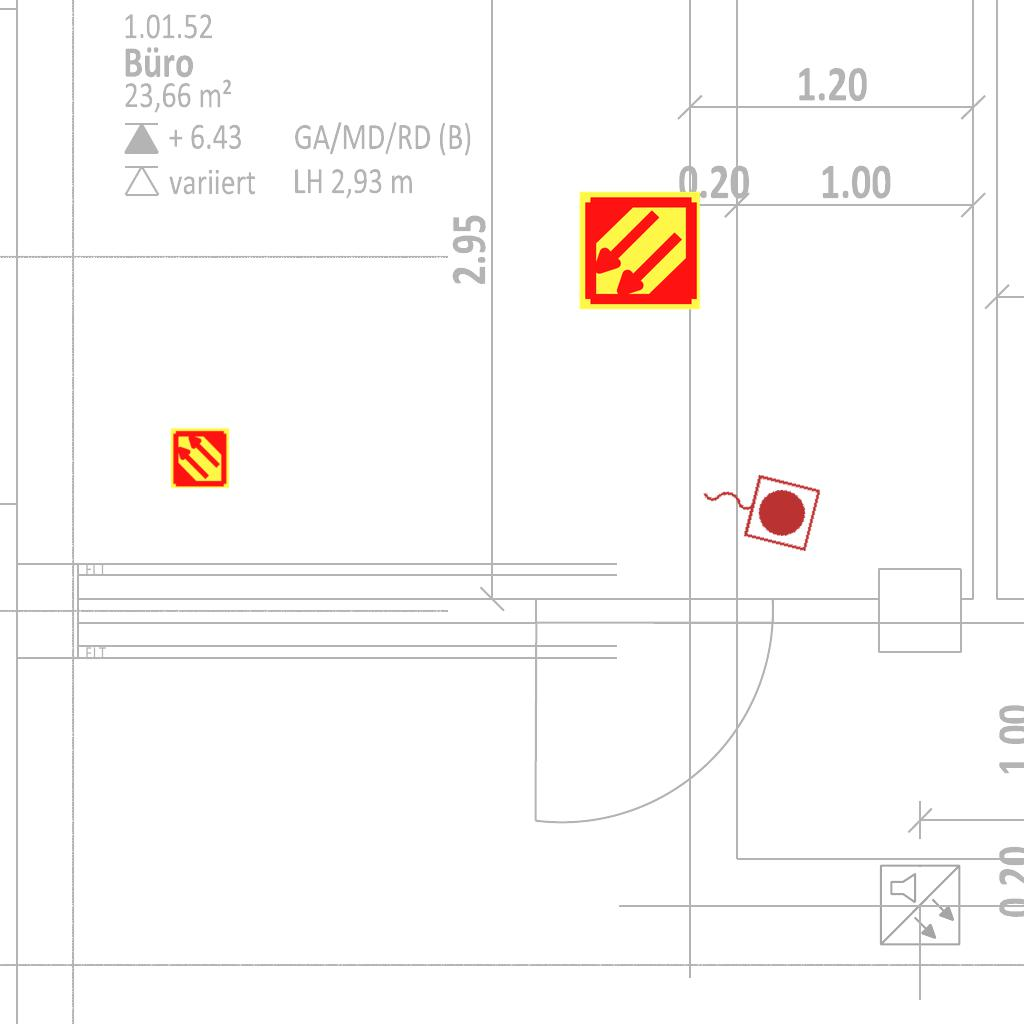ASR_Ansaugrauchmelder: (577, 188, 702, 313), (169, 427, 231, 489)
Zugtaster: (690, 456, 826, 556)
